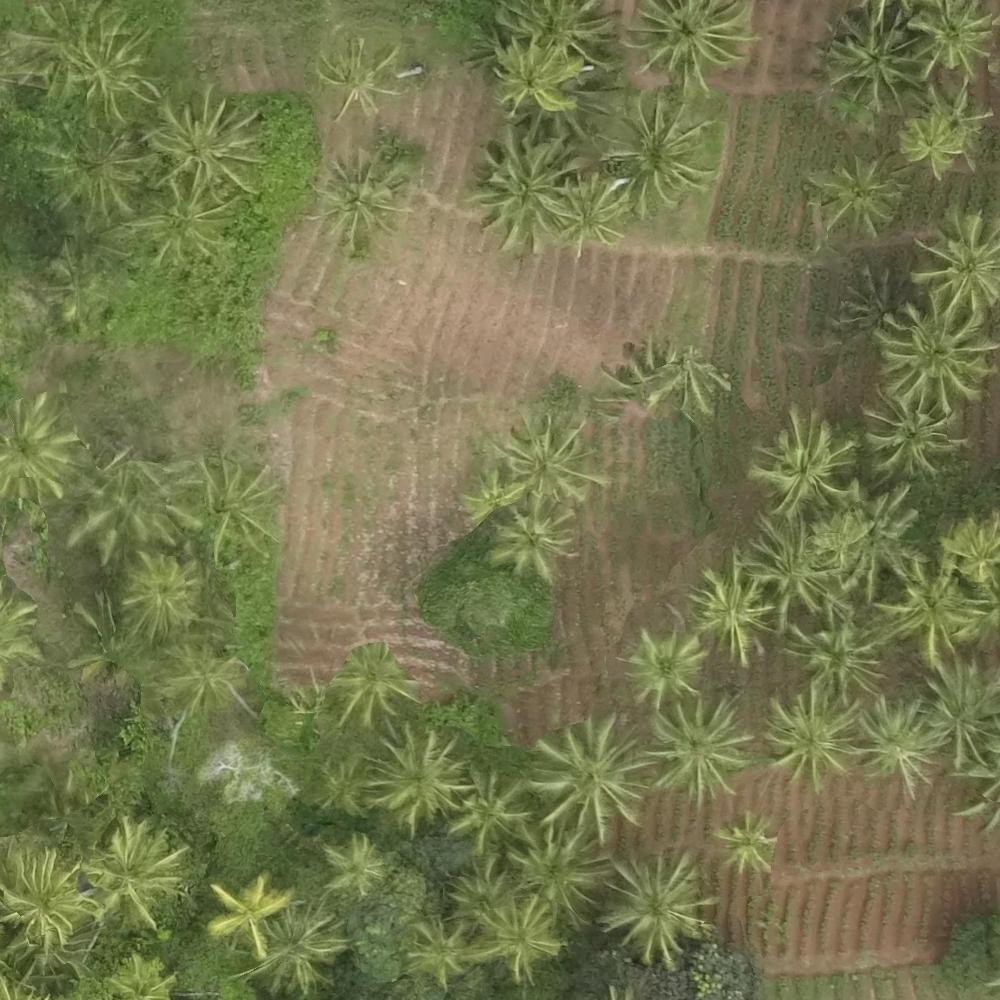Palm: (470, 132, 580, 249), (531, 722, 642, 836), (144, 95, 259, 202), (627, 1, 754, 97), (600, 849, 711, 958), (880, 301, 985, 415), (608, 97, 715, 206), (508, 818, 613, 924), (751, 408, 858, 512), (485, 410, 598, 508), (648, 697, 754, 799), (759, 683, 859, 789), (825, 483, 924, 590), (859, 389, 968, 484), (84, 822, 185, 923), (186, 457, 284, 559), (741, 515, 841, 612), (364, 727, 464, 823), (786, 604, 886, 698), (825, 10, 920, 108), (890, 548, 980, 650), (858, 692, 947, 794), (683, 561, 775, 659), (916, 657, 1000, 764), (312, 150, 403, 244), (910, 215, 1000, 310), (136, 182, 233, 268), (3, 849, 85, 949), (1, 401, 77, 504), (319, 36, 411, 117), (809, 154, 893, 240), (117, 551, 199, 636), (330, 647, 419, 724), (158, 636, 251, 709), (488, 40, 578, 114), (478, 899, 560, 979), (546, 172, 629, 250), (624, 627, 708, 704), (907, 4, 996, 76), (259, 908, 338, 989), (491, 508, 578, 579), (208, 875, 285, 950), (446, 767, 522, 842), (404, 911, 482, 979), (898, 111, 969, 175), (315, 833, 383, 895), (714, 812, 777, 876)
